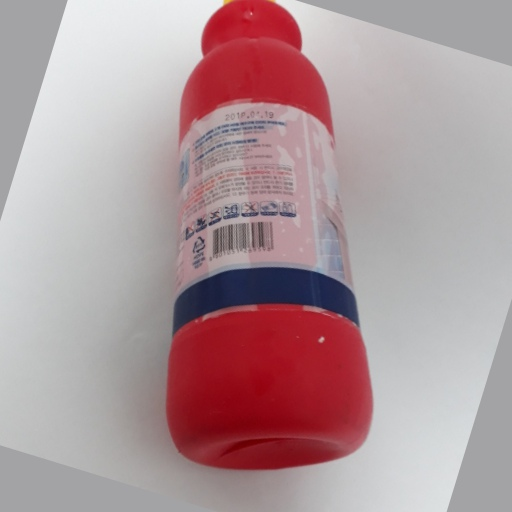Plastic_0: (164, 1, 377, 475)
